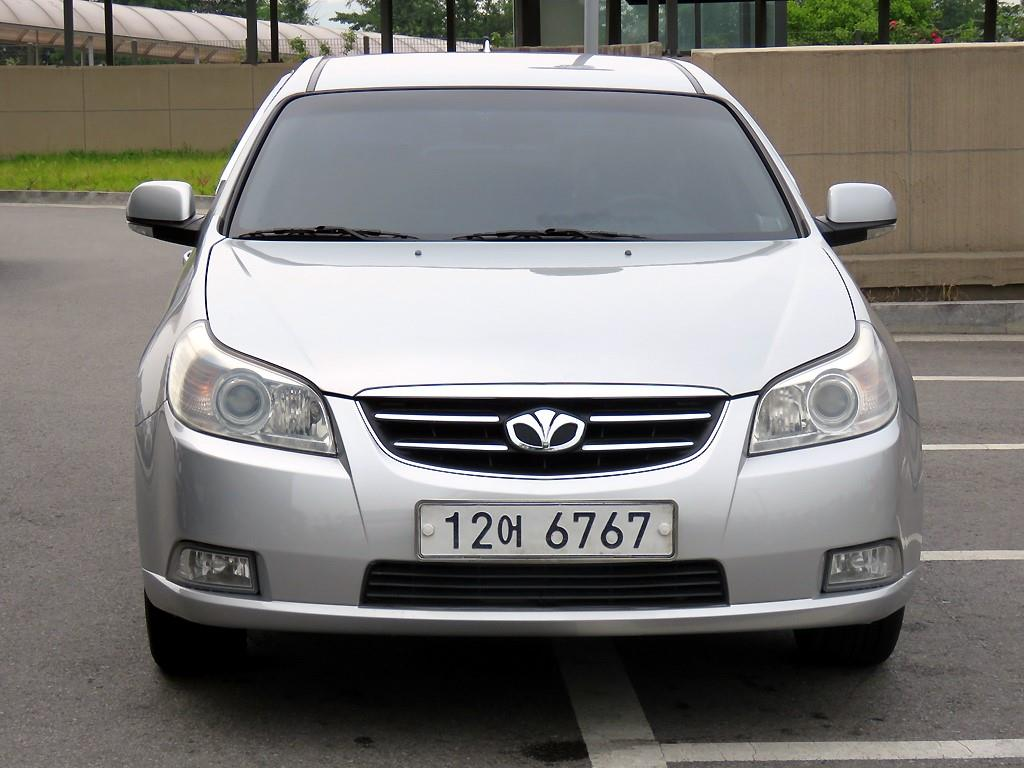plate: (420, 505, 674, 556)
